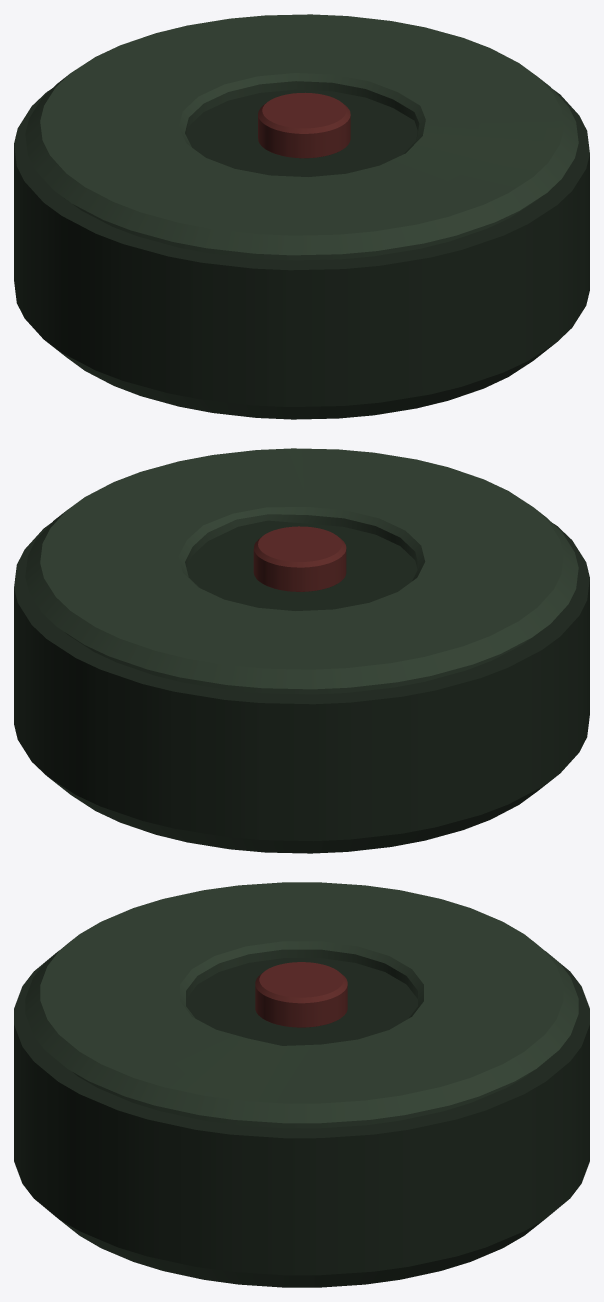
File: Landmine.fbx
3 renders of one model, top to bottom at view 1: azimuth 30°, elevation 25°; view 2: azimuth 150°, elevation 25°; view 3: azimuth 270°, elevation 25°, orthographic.
Visible parts, largest first — view 1: pCylinder1, pCylinder2; view 2: pCylinder1, pCylinder2; view 3: pCylinder1, pCylinder2.
Boxes of the visible parts, x1=… form: pCylinder1: x1=14, y1=14, x2=589, y2=419; pCylinder2: x1=258, y1=92, x2=350, y2=158; pCylinder1: x1=14, y1=448, x2=589, y2=853; pCylinder2: x1=253, y1=526, x2=346, y2=591; pCylinder1: x1=14, y1=882, x2=589, y2=1287; pCylinder2: x1=255, y1=962, x2=347, y2=1027.
Size of the model in its own units: 1.19 by 0.4523 by 1.19.
